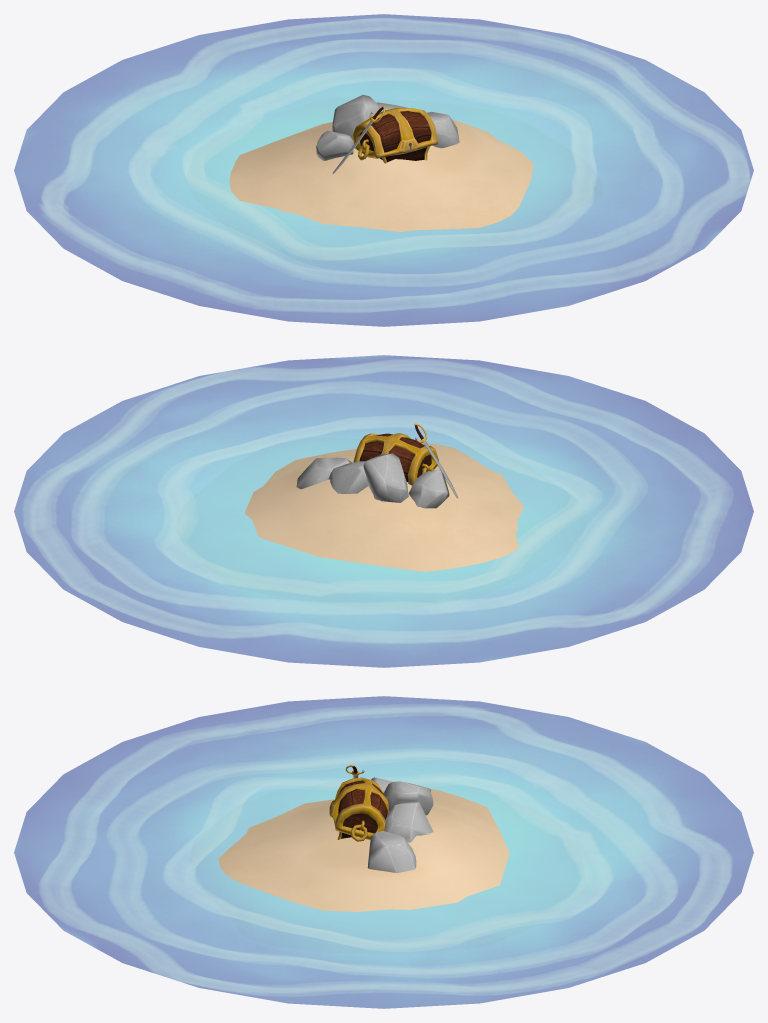
The picture shows the model from 3 angles, top to bottom: view 1: azimuth 30°, elevation 25°; view 2: azimuth 150°, elevation 25°; view 3: azimuth 270°, elevation 25°; orthographic projection.
Visible parts, largest first — view 1: pDisc2, pDisc1, pasted__pCube4, pasted__pCube5, pasted__low1, pasted__low2, pasted__low3; view 2: pDisc2, pDisc1, pasted__low1, pasted__pCube4, pasted__low2, pasted__pCube5, pasted__low, pasted__low3; view 3: pDisc2, pDisc1, pasted__pCube4, pasted__low3, pasted__low, pasted__pCube5, pasted__low1.
Boxes of the visible parts, x1,y1,x2,y2 form: pDisc2: (14,14,753,326); pDisc1: (229,119,533,232); pasted__pCube4: (352,108,437,158); pasted__pCube5: (359,111,431,161); pasted__low1: (332,94,379,139); pasted__low2: (316,130,353,160); pasted__low3: (427,111,459,148); pDisc2: (14,355,753,667); pDisc1: (244,443,523,571); pasted__low1: (363,453,408,502); pasted__pCube4: (353,433,438,485); pasted__low2: (408,470,449,508); pasted__pCube5: (359,433,431,482); pasted__low: (328,461,368,493); pasted__low3: (296,457,351,489); pDisc2: (14,696,753,1008); pDisc1: (218,788,509,911); pasted__pCube4: (329,777,388,839); pasted__low3: (367,831,416,872); pasted__low: (385,801,433,842); pasted__pCube5: (338,780,387,838); pasted__low1: (383,781,433,815).
Size of the model in its own units: 12.47 by 1.79 by 12.47.
Materials: 5 (5 with a texture image).
